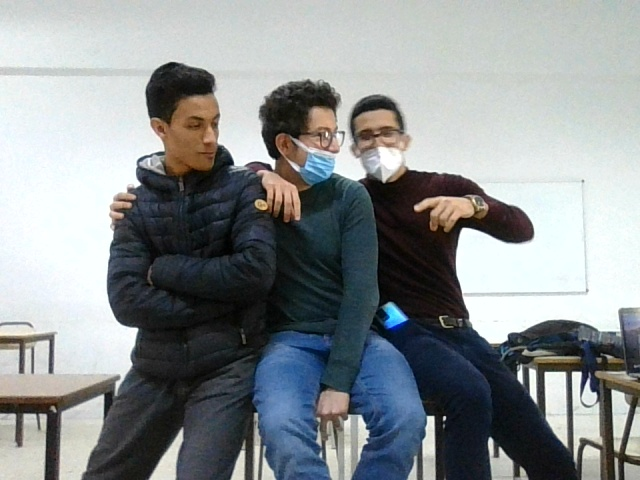mask_weared_incorrect: (260, 82, 347, 192), (350, 100, 428, 189)
without_mask: (141, 65, 225, 178)
